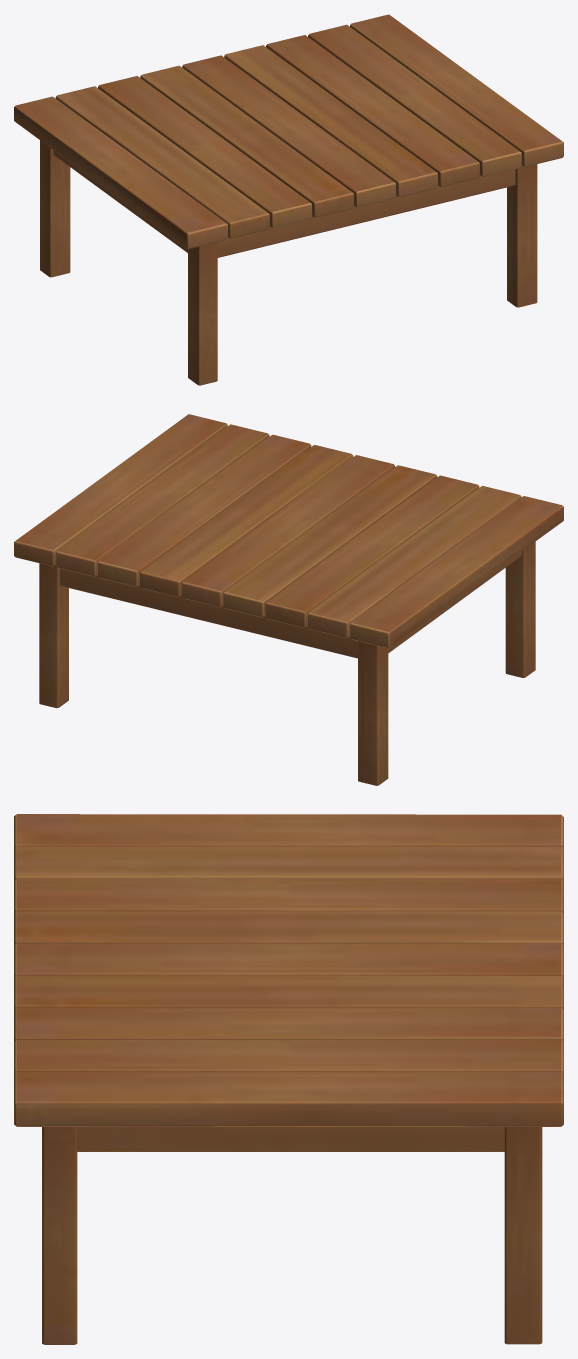
Rendered from zhuozi.fbx.
3 views of the same model, one above another, from view 1: azimuth 30°, elevation 25°; view 2: azimuth 150°, elevation 25°; view 3: azimuth 270°, elevation 25° (orthographic). The views are drawn at different scales.
Visible parts, largest first — view 1: ZhuoZi02; view 2: ZhuoZi02; view 3: ZhuoZi02.
Part boxes in pixels (x1,y1,x2,y2): ZhuoZi02: (14,14,563,385); ZhuoZi02: (14,414,563,785); ZhuoZi02: (14,814,563,1344).
Size of the model in its own units: 130 by 53.62 by 104.
